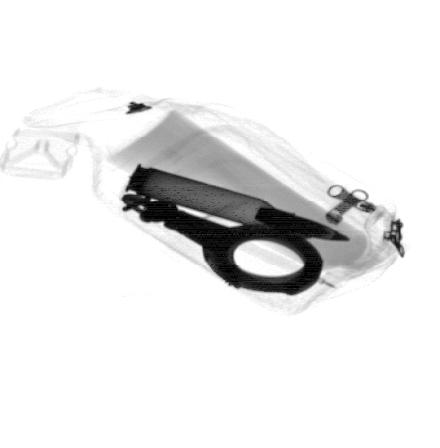Bullet: (121, 161, 354, 244)
HandCuffs: (122, 193, 325, 297)
